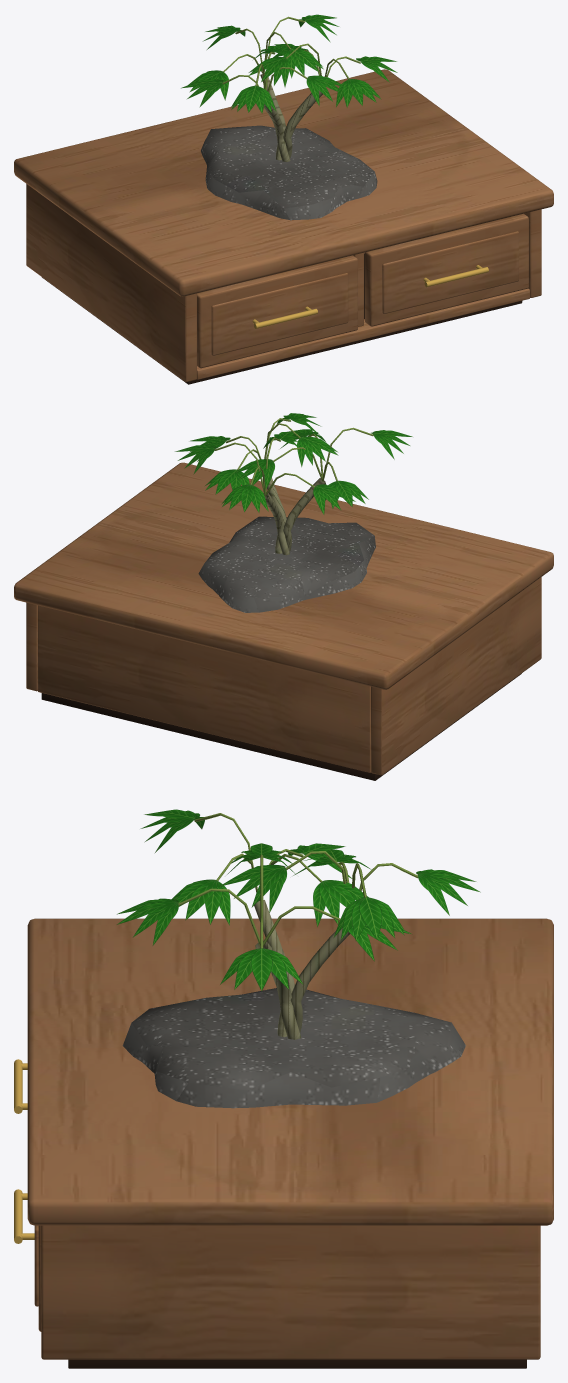
File: tilldesk.glb
3 renders of one model, top to bottom at view 1: azimuth 30°, elevation 25°; view 2: azimuth 150°, elevation 25°; view 3: azimuth 270°, elevation 25°, orthographic. The views are drawn at different scales.
Parts seen in each view (by area): view 1: DeskMat, DeskMatSide-1, CatStone, DeskMatDrawer0Panel, DeskMatDrawer1Panel, DeskMatDrawer1Front, DeskMatDrawer0Front, DeskMatBottom, DeskMatPlinth, DeskMatSide1, TreeTrunk0, TreeTrunk1 (+1 smaller); view 2: DeskMat, DeskMatBack, DeskMatSide-1, CatStone, DeskMatPlinth, DeskMatSide1, TreeTrunk1, TreeTrunk2; view 3: DeskMat, DeskMatSide1, CatStone, DeskMatPlinth, TreeTrunk2, TreeTrunk0, TreeTrunk1.
Part boxes in pixels (<box>): DeskMat: <box>14,69,553,296</box>; DeskMatSide-1: <box>26,184,196,382</box>; CatStone: <box>201,125,377,220</box>; DeskMatDrawer0Panel: <box>211,273,348,355</box>; DeskMatDrawer1Panel: <box>382,231,518,313</box>; DeskMatDrawer1Front: <box>365,213,528,326</box>; DeskMatDrawer0Front: <box>197,255,357,368</box>; DeskMatBottom: <box>197,288,529,379</box>; DeskMatPlinth: <box>42,277,522,384</box>; DeskMatSide1: <box>524,209,541,297</box>; TreeTrunk0: <box>283,90,322,157</box>; TreeTrunk1: <box>263,104,290,161</box>; DeskMat: <box>14,462,553,689</box>; DeskMatBack: <box>38,605,370,772</box>; DeskMatSide-1: <box>371,577,541,775</box>; CatStone: <box>198,516,375,612</box>; DeskMatPlinth: <box>41,673,521,780</box>; DeskMatSide1: <box>26,602,37,691</box>; TreeTrunk1: <box>283,478,325,551</box>; TreeTrunk2: <box>263,493,289,555</box>; DeskMat: <box>27,918,553,1225</box>; DeskMatSide1: <box>41,1225,540,1359</box>; CatStone: <box>122,988,465,1108</box>; DeskMatPlinth: <box>68,1359,526,1368</box>; TreeTrunk2: <box>290,928,350,1032</box>; TreeTrunk0: <box>255,942,301,1039</box>; TreeTrunk1: <box>254,900,294,1037</box>.
Size of the model in its own units: 0.5 by 0.3334 by 0.4002.
61 materials, 9 textured.
